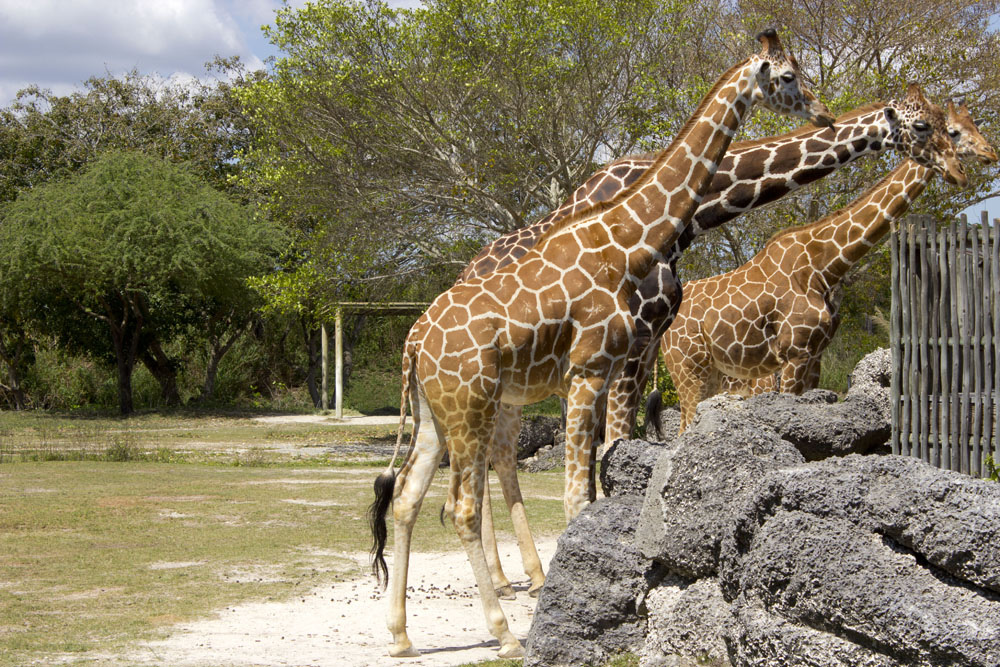giraffe: (368, 41, 800, 635), (653, 106, 991, 463), (541, 106, 959, 250)
